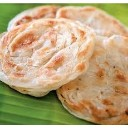parota: (1, 19, 94, 90), (60, 34, 128, 121)
